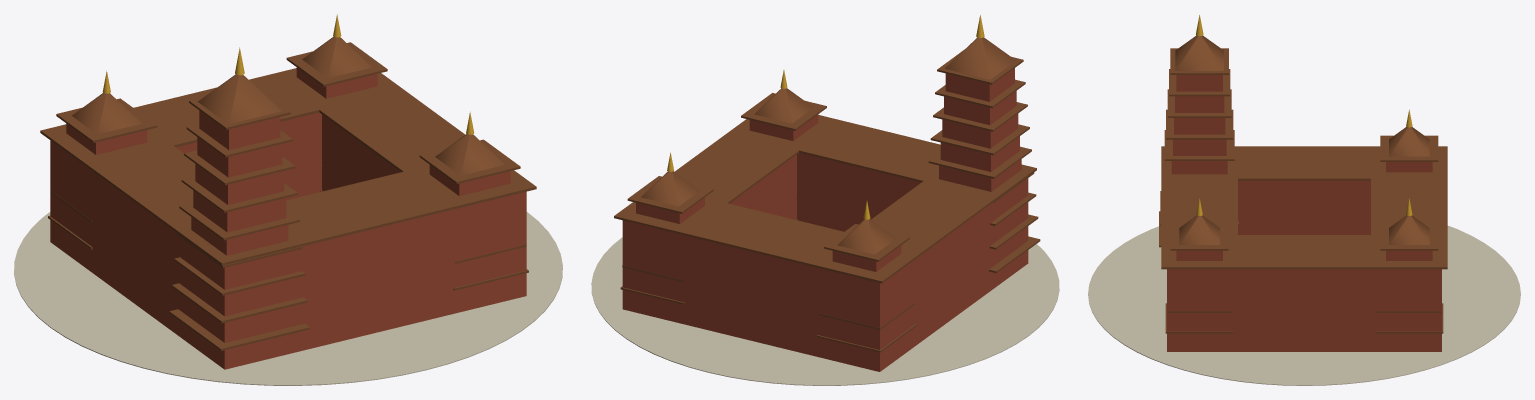
File: basantapur-tower.gltf
The picture shows the model from 3 angles, left to right: view 1: azimuth 30°, elevation 25°; view 2: azimuth 150°, elevation 25°; view 3: azimuth 270°, elevation 25°; orthographic projection. The views are drawn at different scales.
Parts seen in each view (by area): view 1: object 3, ground, object 4, object 5, object 1, object 2, object 8, object 6, object 7, object 28, object 20, object 22 (+20 smaller); view 2: object 1, ground, object 3, object 2, object 5, object 4, object 6, object 8, object 7, object 28, object 20, object 22 (+18 smaller); view 3: ground, object 7, object 5, object 2, object 4, object 1, object 3, object 6, object 8, object 28, object 64, object 40 (+17 smaller).
Boxes of the visible parts, left/top/right/bottom form: object 3: left=183, top=191, right=526, bottom=369; ground: left=14, top=212, right=562, bottom=385; object 4: left=173, top=166, right=536, bottom=265; object 5: left=91, top=171, right=183, bottom=338; object 1: left=50, top=112, right=321, bottom=271; object 2: left=40, top=68, right=402, bottom=165; object 8: left=314, top=84, right=465, bottom=176; object 6: left=81, top=145, right=195, bottom=235; object 7: left=322, top=114, right=400, bottom=191; object 28: left=198, top=74, right=281, bottom=124; object 20: left=193, top=190, right=286, bottom=232; object 22: left=195, top=164, right=284, bottom=204; object 1: left=622, top=220, right=914, bottom=371; ground: left=591, top=237, right=1059, bottom=385; object 3: left=797, top=152, right=1028, bottom=288; object 2: left=614, top=198, right=923, bottom=283; object 5: left=915, top=202, right=993, bottom=345; object 4: left=728, top=115, right=1036, bottom=199; object 6: left=871, top=176, right=1001, bottom=257; object 8: left=675, top=130, right=804, bottom=207; object 7: left=729, top=154, right=796, bottom=219; object 28: left=944, top=37, right=1015, bottom=79; object 20: left=940, top=136, right=1019, bottom=171; object 22: left=942, top=114, right=1018, bottom=148; ground: left=1088, top=225, right=1520, bottom=385; object 7: left=1232, top=269, right=1376, bottom=351; object 5: left=1238, top=180, right=1370, bottom=234; object 2: left=1371, top=146, right=1447, bottom=269; object 4: left=1161, top=146, right=1237, bottom=269; object 1: left=1376, top=269, right=1441, bottom=351; object 3: left=1167, top=269, right=1232, bottom=351; object 6: left=1228, top=146, right=1381, bottom=180; object 8: left=1226, top=235, right=1382, bottom=269; object 28: left=1175, top=35, right=1223, bottom=70; object 64: left=1389, top=127, right=1429, bottom=156; object 40: left=1179, top=215, right=1219, bottom=244.
Size of the model in its own units: 59.89 by 36.06 by 59.89.
